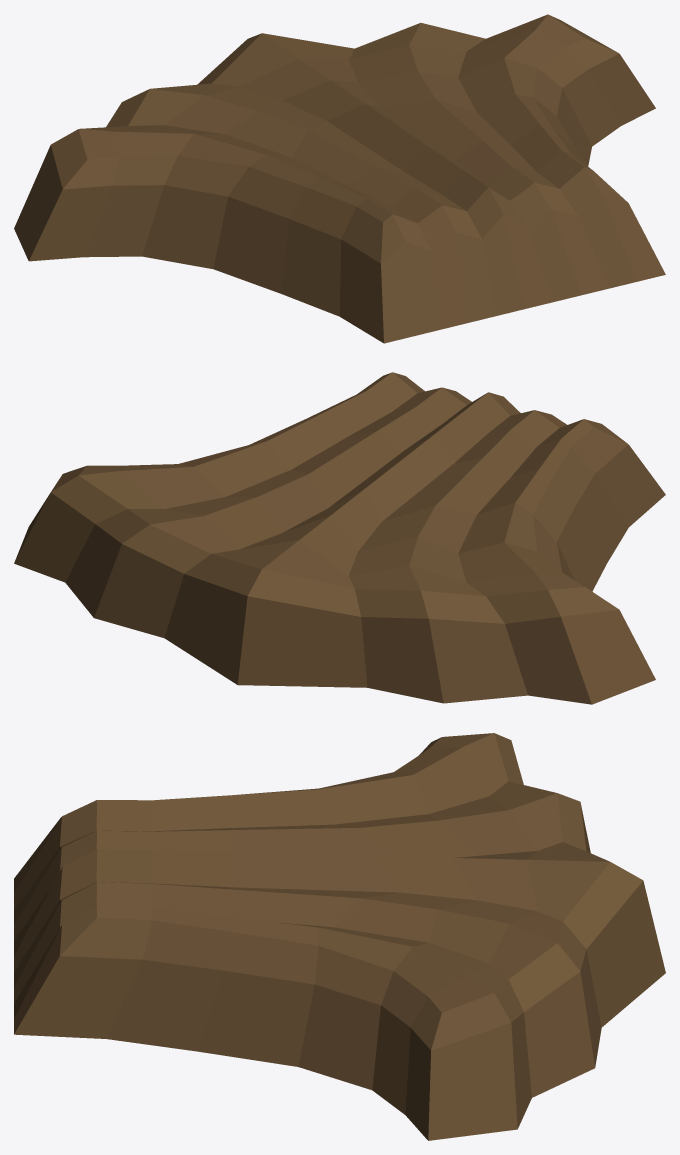
The model's file is coquillage.fbx.
3 views of the same model, one above another, from view 1: azimuth 30°, elevation 25°; view 2: azimuth 150°, elevation 25°; view 3: azimuth 270°, elevation 25° (orthographic). The views are drawn at different scales.
Parts seen in each view (by area): view 1: coquillage; view 2: coquillage; view 3: coquillage.
Part boxes in pixels (bbox=[...]): coquillage: bbox=[14, 14, 665, 343]; coquillage: bbox=[14, 372, 665, 704]; coquillage: bbox=[14, 733, 665, 1140].
Bounding box in the file's own units: 905 × 151 × 718.
